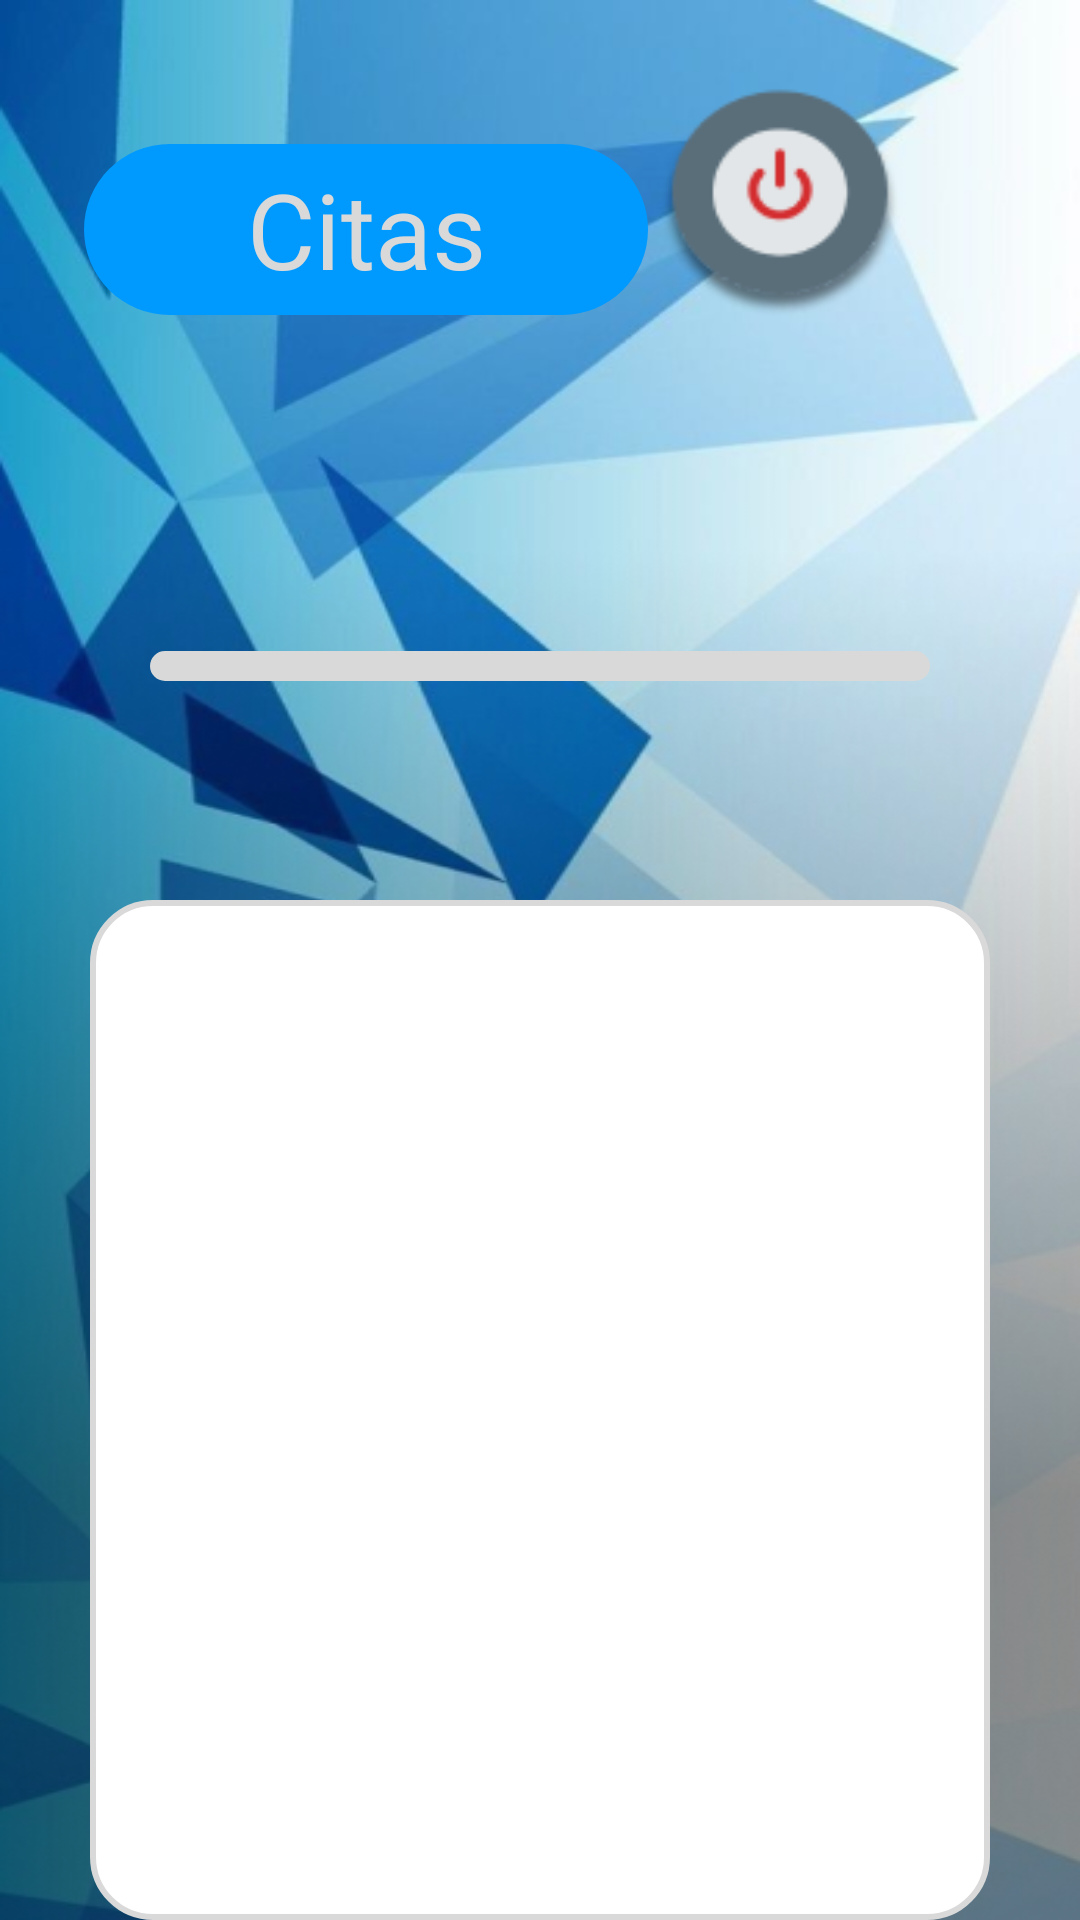

Icon click points for this 1080 x 1920 phone screenshot, format [x,y]:
off: [780,204]
